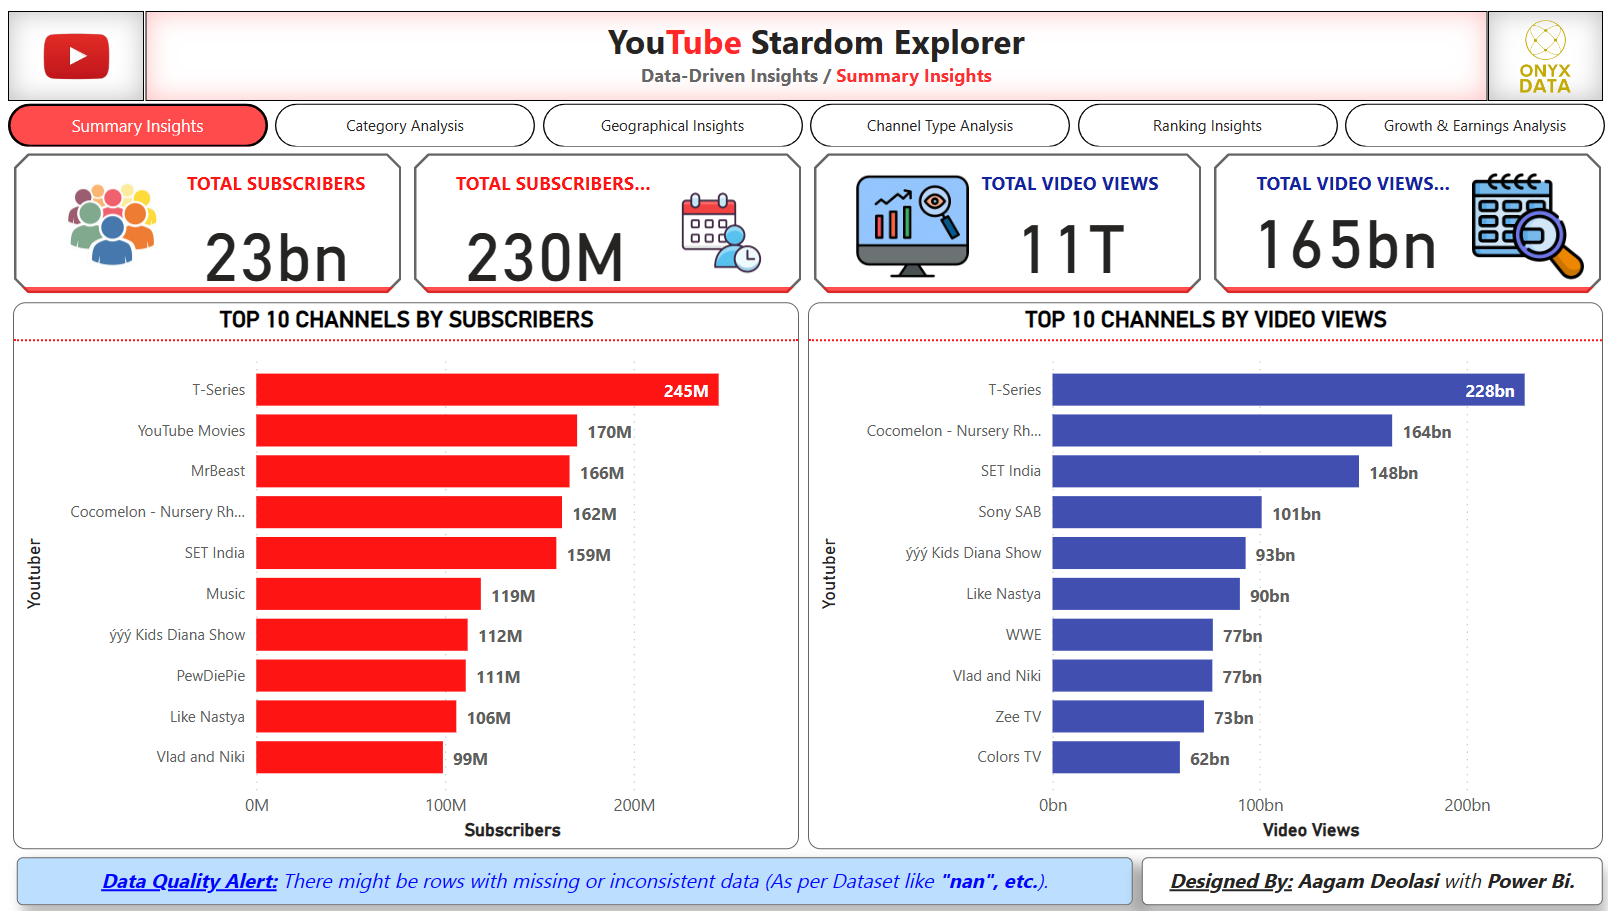

The dashboard page shown, as its layout file describes it:
{"tool":"powerbi","page":{"name":"Summary Insights","canvas":[1280,720],"ordinal":0},"visuals":[{"type":"cardVisual","fields":{"Data":["Onyx Data -DataDNA Dataset Challenge - Top 1000 YouTubers - November 2023.subscribers","Onyx Data -DataDNA Dataset Challenge - Top 1000 YouTubers - November 2023.subscribers_for_last_30_days","Onyx Data -DataDNA Dataset Challenge - Top 1000 YouTubers - November 2023.video views","Onyx Data -DataDNA Dataset Challenge - Top 1000 YouTubers - November 2023.video_views_for_the_last_30_days"]},"box":[0,109.2,1280,122],"z":0},{"type":"textbox","box":[110.4,0,1073.6,72],"z":1000},{"type":"image","box":[0,0,109.2,72],"z":2000},{"type":"clusteredBarChart","title":"TOP 10 CHANNELS BY SUBSCRIBERS","fields":{"Category":["Onyx Data -DataDNA Dataset Challenge - Top 1000 YouTubers - November 2023.Youtuber"],"Y":["Onyx Data -DataDNA Dataset Challenge - Top 1000 YouTubers - November 2023.subscribers"]},"box":[4.3,232.9,628.6,438.6],"z":3000},{"type":"barChart","title":"TOP 10 CHANNELS BY VIDEO VIEWS","fields":{"Category":["Onyx Data -DataDNA Dataset Challenge - Top 1000 YouTubers - November 2023.Youtuber"],"Y":["Onyx Data -DataDNA Dataset Challenge - Top 1000 YouTubers - November 2023.video views"]},"box":[640,232.9,635.7,438.6],"z":4000},{"type":"textbox","box":[7.1,677.1,892.9,38.6],"z":5000},{"type":"textbox","box":[907.1,677.1,368.6,38.6],"z":6000},{"type":"image","box":[1184,0,91.8,72],"z":7000},{"type":"pageNavigator","box":[0,74.4,1280,34.9],"z":8000}]}

Visuals, with their boxes in screenshot pixels (x1, y1, x2, y2), scaled from the page's 1280x720 canvas onto the 1616x918 screenshot:
cardVisual - Onyx Data -DataDNA Dataset Challenge - Top 1000 YouTubers - November 2023.subscribers x Onyx Data -DataDNA Dataset Challenge - Top 1000 YouTubers - November 2023.subscribers_for_last_30_days: 0, 139, 1615, 295
textbox: 139, 0, 1495, 92
image: 0, 0, 138, 92
"TOP 10 CHANNELS BY SUBSCRIBERS" clusteredBarChart: 5, 297, 799, 856
"TOP 10 CHANNELS BY VIDEO VIEWS" barChart: 808, 297, 1611, 856
textbox: 9, 863, 1136, 913
textbox: 1145, 863, 1611, 913
image: 1495, 0, 1611, 92
pageNavigator: 0, 95, 1615, 139
